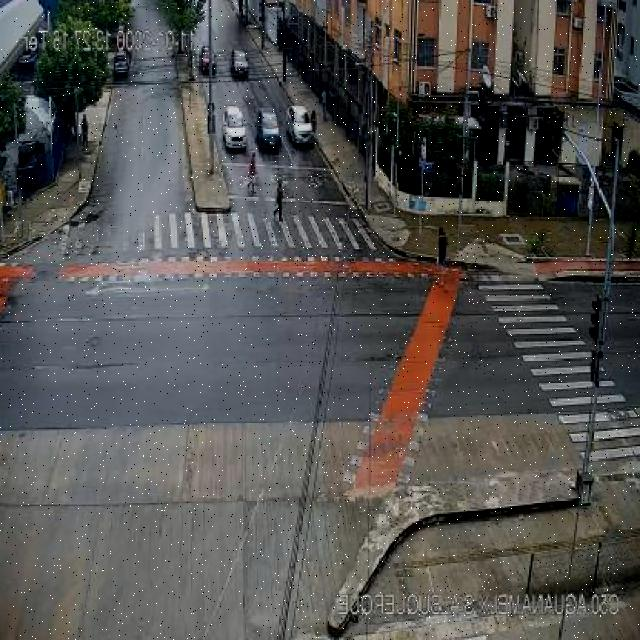car: (222, 104, 247, 148), (287, 104, 315, 142), (256, 106, 281, 148), (230, 50, 250, 76), (200, 46, 217, 76), (114, 52, 130, 74)
motorbike: (434, 228, 448, 284), (273, 176, 287, 221), (246, 152, 257, 196), (80, 112, 88, 151), (322, 88, 328, 120)
